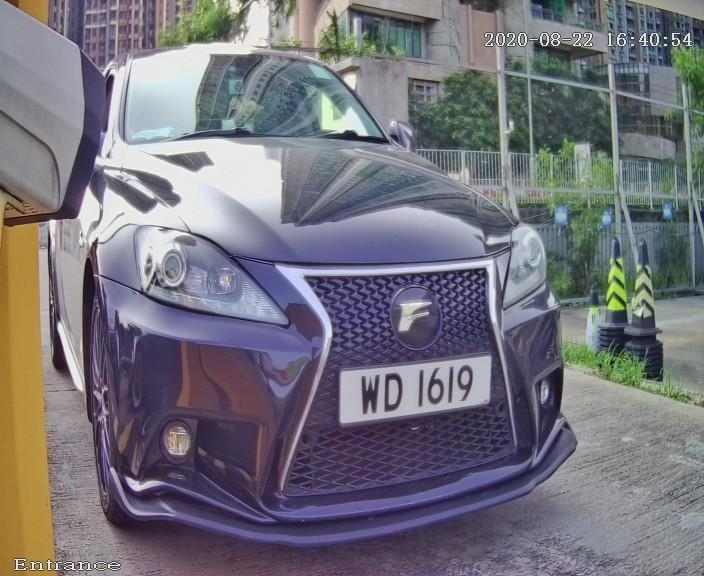Car: (38, 16, 604, 561)
License Plate: (306, 329, 514, 453)
